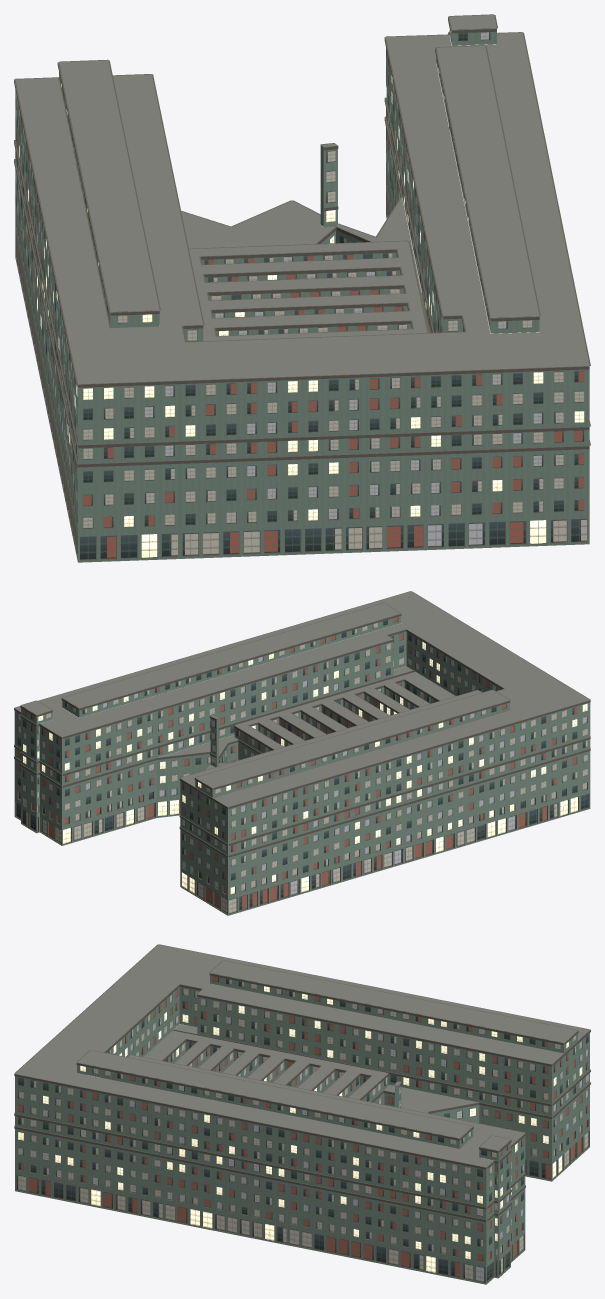
File: puls5.glb
The picture shows the model from 3 angles, top to bottom: view 1: azimuth 30°, elevation 25°; view 2: azimuth 150°, elevation 25°; view 3: azimuth 270°, elevation 25°; orthographic projection. The views are drawn at different scales.
Visible parts, largest first — view 1: puls5; view 2: puls5; view 3: puls5.
Boxes of the visible parts, left/top/right/bottom form: puls5: left=14, top=14, right=590, bottom=562; puls5: left=14, top=591, right=590, bottom=915; puls5: left=14, top=944, right=590, bottom=1284.
Bounding box in the file's own units: 127 × 33.88 × 138.
Materials: 3 (3 with a texture image).
